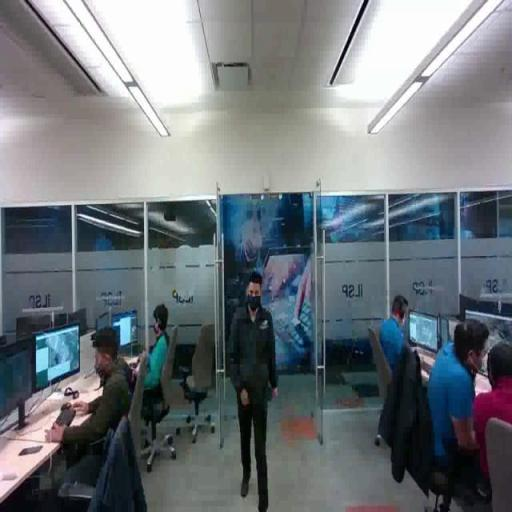person: (41, 325, 139, 497), (420, 315, 496, 485), (226, 268, 278, 512), (126, 301, 179, 439), (475, 326, 512, 512), (366, 295, 424, 413)
